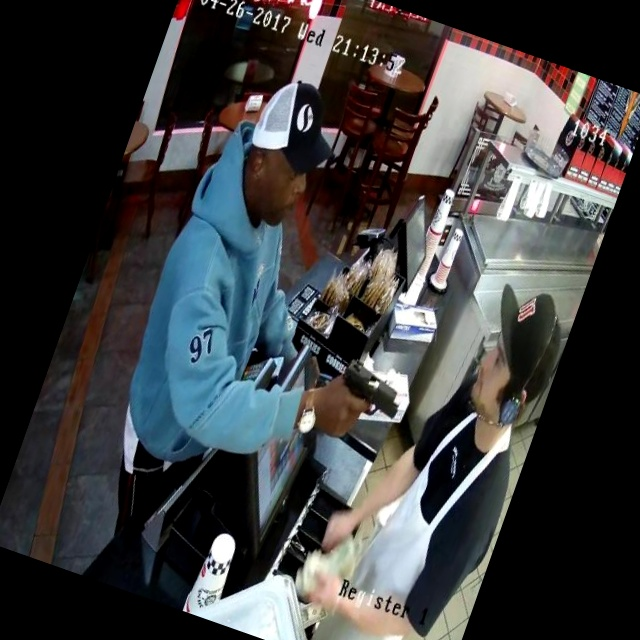gun: (316, 339, 422, 443)
